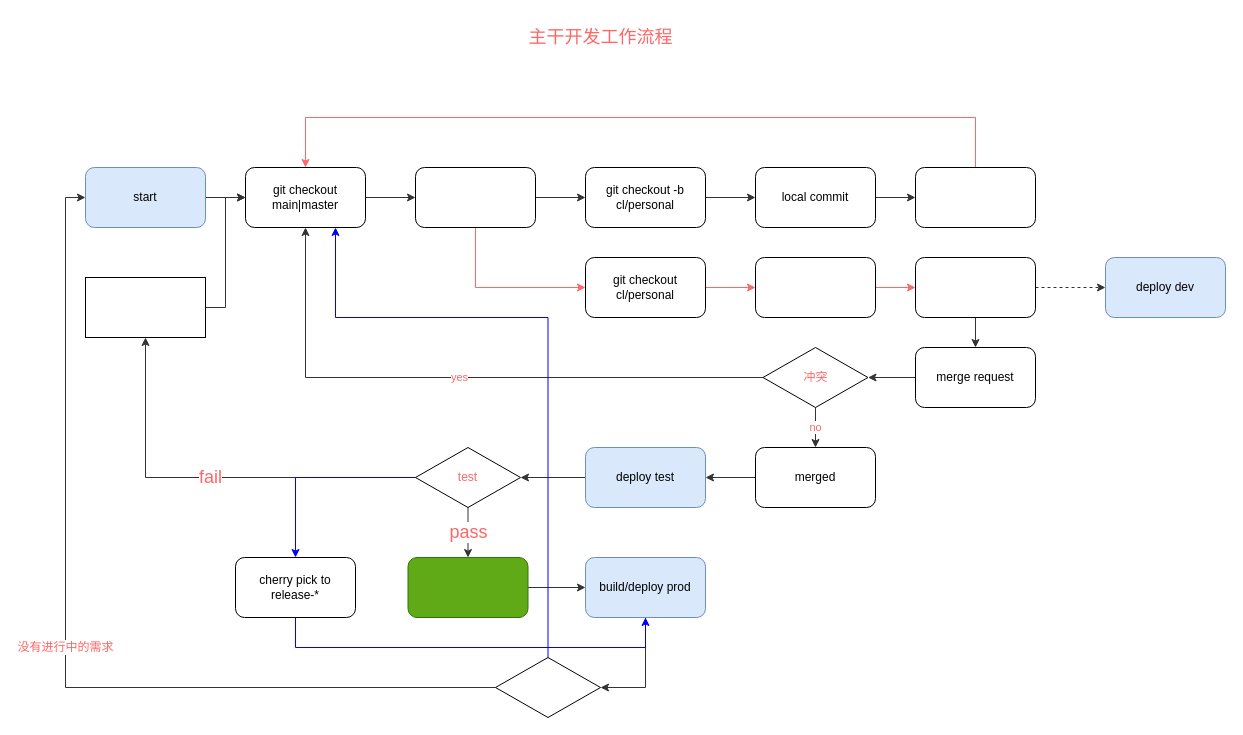
This 1243x735 diagram has some shape labels left out. Here are the shapes that lost their labels. From the top down, the centre of each, then its label:
the point at 475,197: git pull -p
the point at 975,197: pre push
the point at 145,307: fix bug
the point at 815,287: git rebase main|master
the point at 975,287: push
the point at 467,587: pack branch release-*
the point at 547,687: 优化
